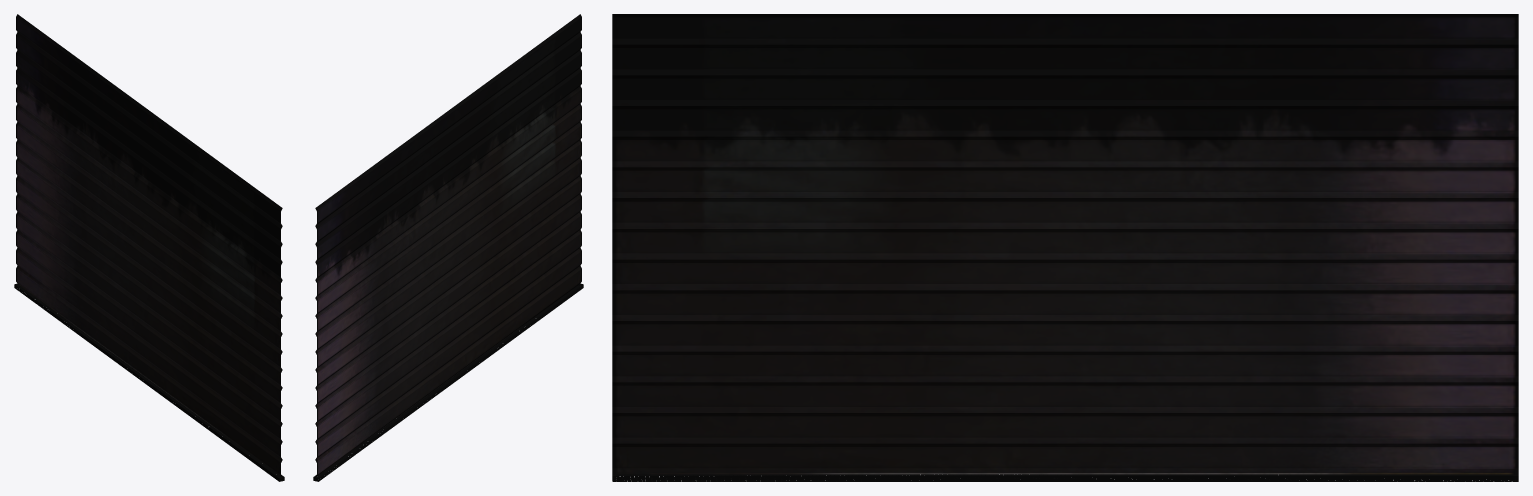
The picture shows the model from 3 angles, left to right: view 1: azimuth 30°, elevation 25°; view 2: azimuth 150°, elevation 25°; view 3: azimuth 270°, elevation 25°; orthographic projection. The views are drawn at different scales.
Parts seen in each view (by area): view 1: Cube.028; view 2: Cube.028; view 3: Cube.028.
Part boxes in pixels (x1,y1,x2,y2): Cube.028: (14,14,284,481); Cube.028: (313,14,583,481); Cube.028: (612,14,1518,481).
Bounding box in the file's own units: 0.0711 × 3.44 × 6.06.
Materials: 1 (1 with a texture image).
